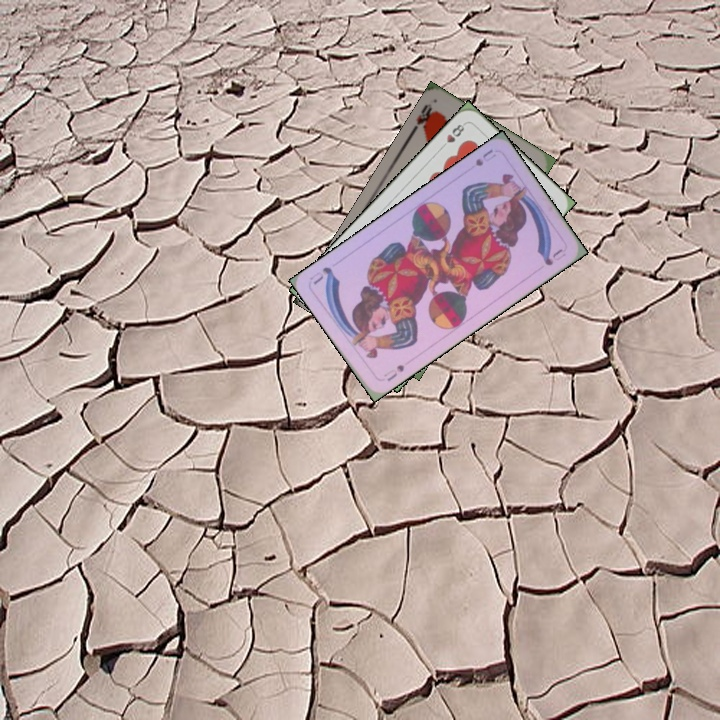H8: (437, 119, 468, 152)
HO: (407, 99, 439, 135)
SU: (471, 145, 499, 169), (379, 360, 407, 384)
